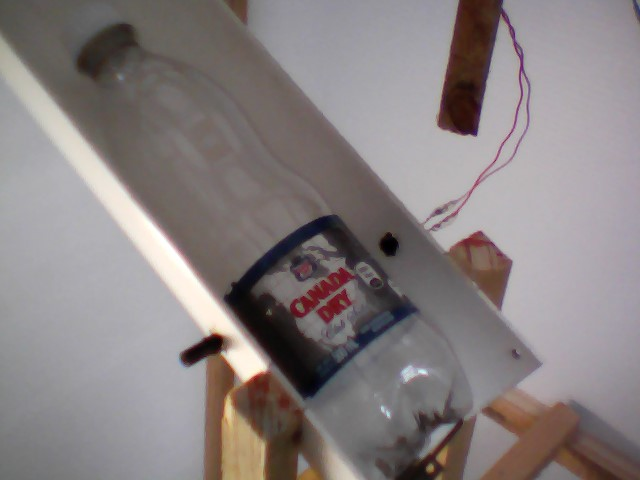plastico: (56, 1, 475, 477)
